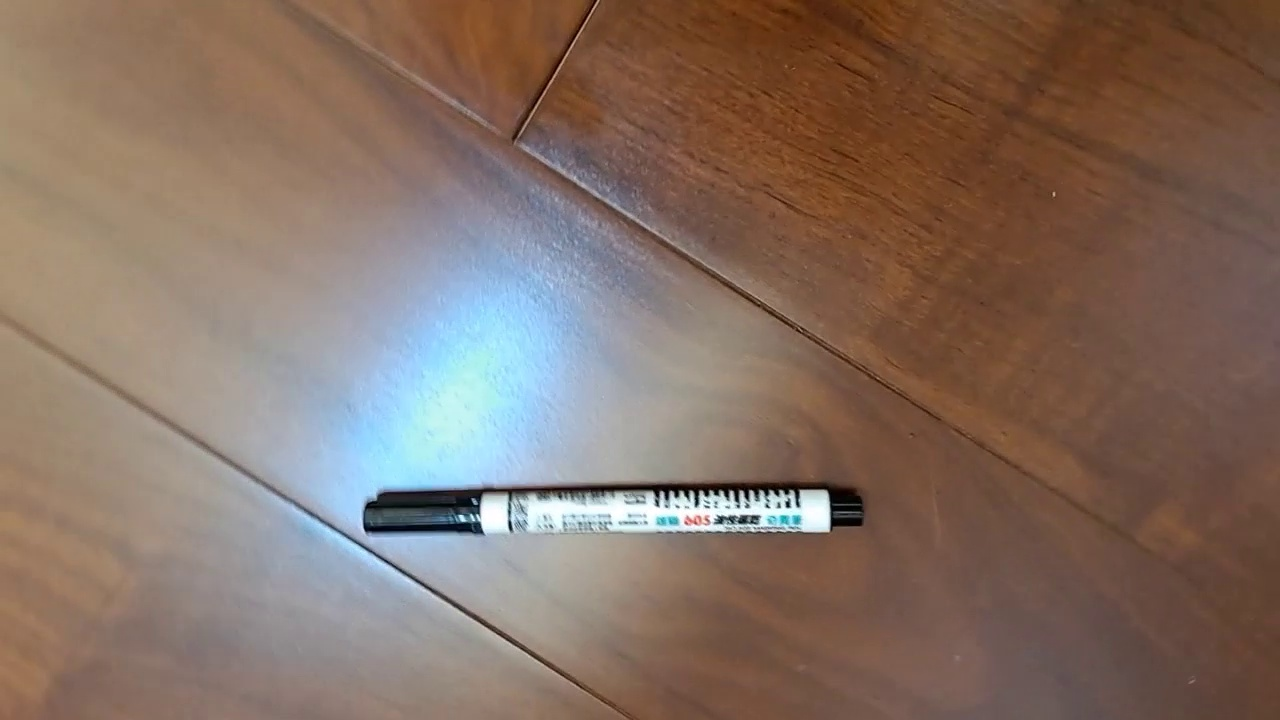pen: (362, 482, 865, 537)
